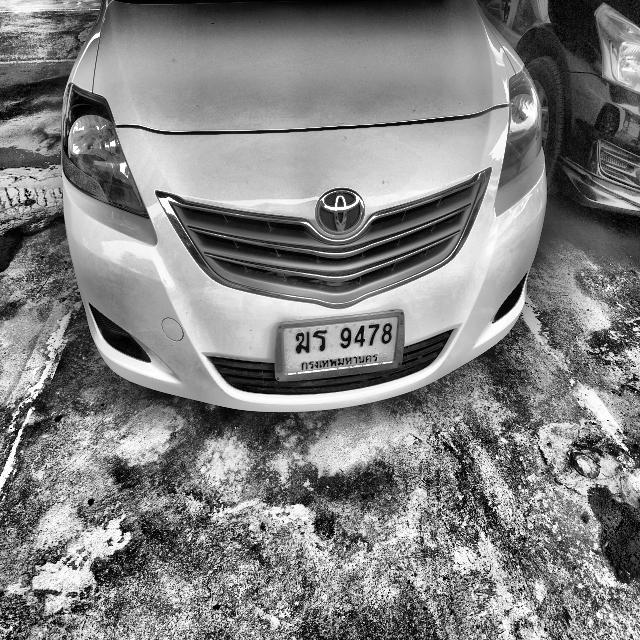license-plate: (274, 308, 406, 386)
